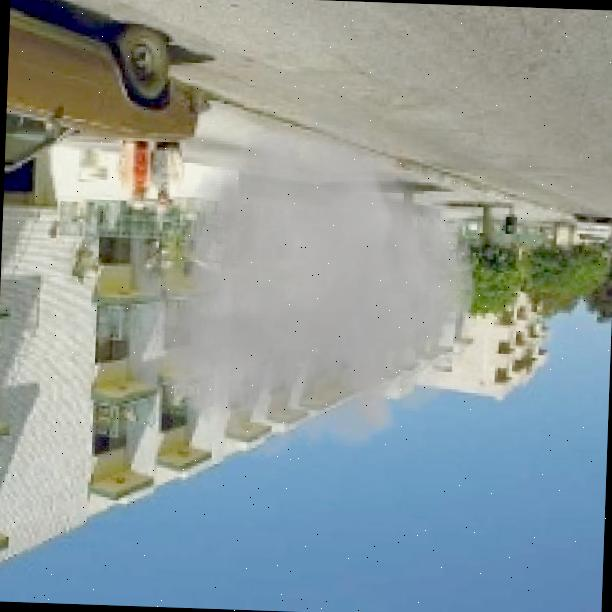smoke: (105, 71, 491, 484)
